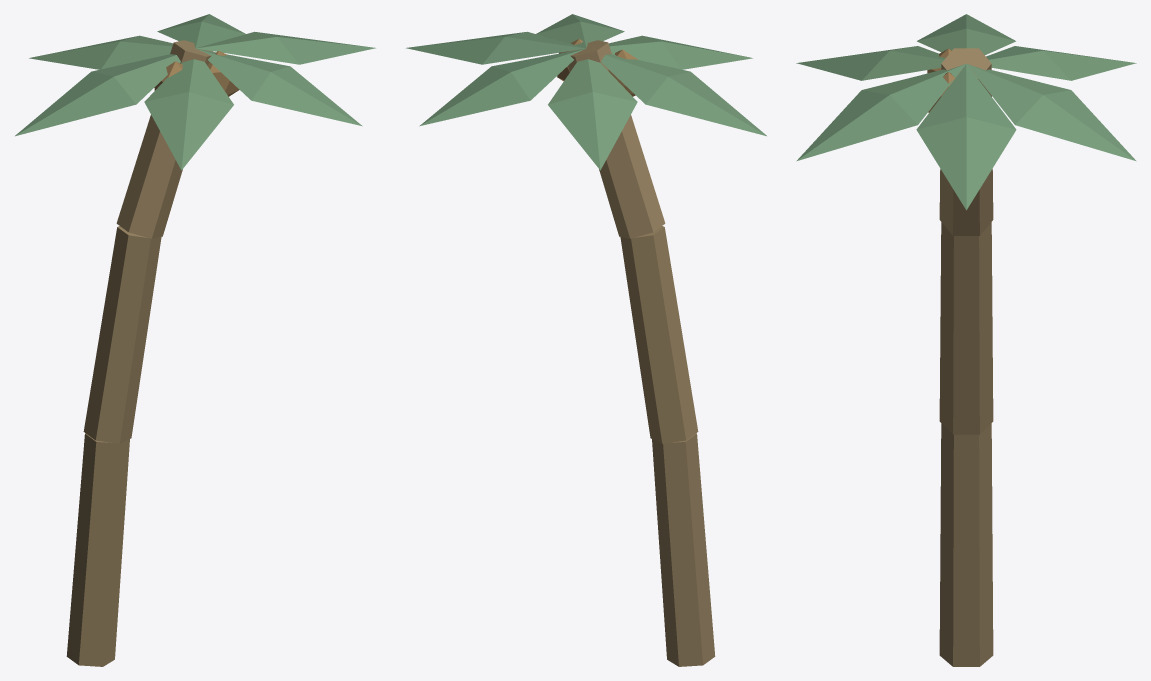
The model's file is map-exclusive-v3__shore_06.glb.
3 renders of one model, left to right at view 1: azimuth 30°, elevation 25°; view 2: azimuth 150°, elevation 25°; view 3: azimuth 270°, elevation 25°, orthographic. The views are drawn at different scales.
Visible parts, largest first — view 1: shore_06; view 2: shore_06; view 3: shore_06.
Boxes of the visible parts, left/top/right/bottom form: shore_06: left=15, top=14, right=375, bottom=666; shore_06: left=406, top=14, right=766, bottom=666; shore_06: left=796, top=14, right=1136, bottom=666.
Size of the model in its own units: 2.6 by 4.05 by 1.91.
